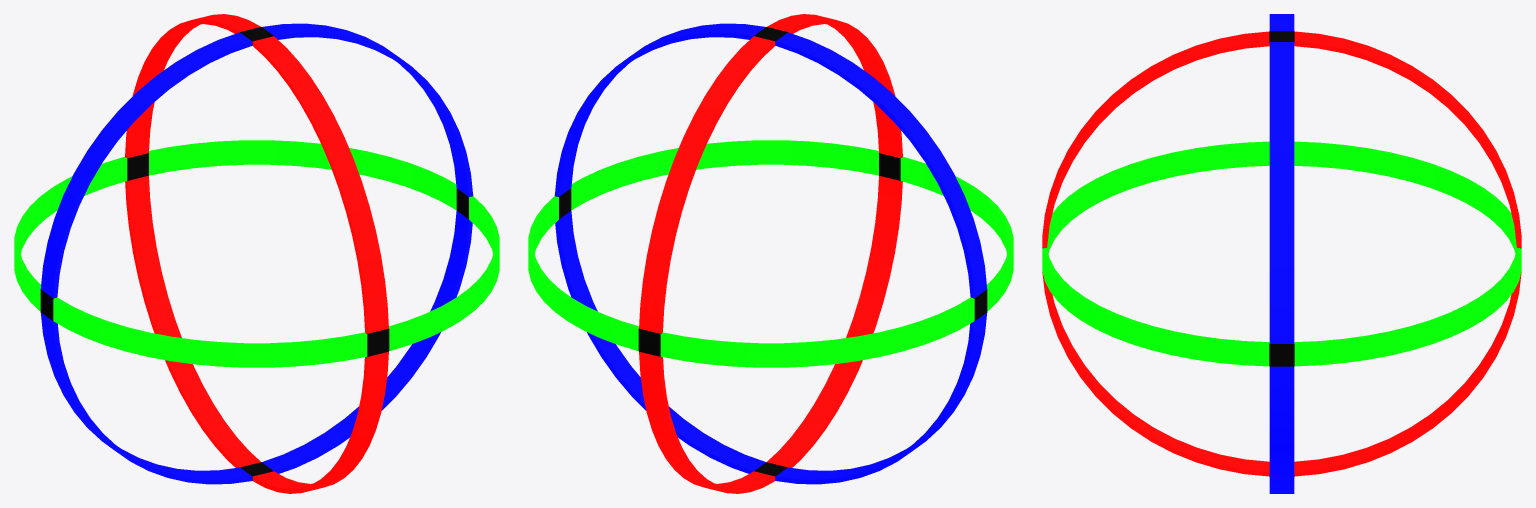
The model's file is Prototype_Widgets_Rotation.fbx.
3 renders of one model, left to right at view 1: azimuth 30°, elevation 25°; view 2: azimuth 150°, elevation 25°; view 3: azimuth 270°, elevation 25°, orthographic.
Parts seen in each view (by area): view 1: Rotation_Widget_X, Rotation_Widget_Y, Rotation_Widget_Z; view 2: Rotation_Widget_X, Rotation_Widget_Y, Rotation_Widget_Z; view 3: Rotation_Widget_Y, Rotation_Widget_X, Rotation_Widget_Z.
Boxes of the visible parts, left/top/right/bottom form: Rotation_Widget_X: left=125, top=14, right=388, bottom=493; Rotation_Widget_Y: left=14, top=140, right=499, bottom=367; Rotation_Widget_Z: left=40, top=23, right=473, bottom=484; Rotation_Widget_X: left=639, top=14, right=902, bottom=493; Rotation_Widget_Y: left=528, top=140, right=1013, bottom=367; Rotation_Widget_Z: left=554, top=23, right=987, bottom=484; Rotation_Widget_Y: left=1042, top=141, right=1521, bottom=366; Rotation_Widget_X: left=1042, top=31, right=1521, bottom=476; Rotation_Widget_Z: left=1269, top=14, right=1294, bottom=493.
Size of the model in its own units: 97.87 by 97.87 by 97.87.
